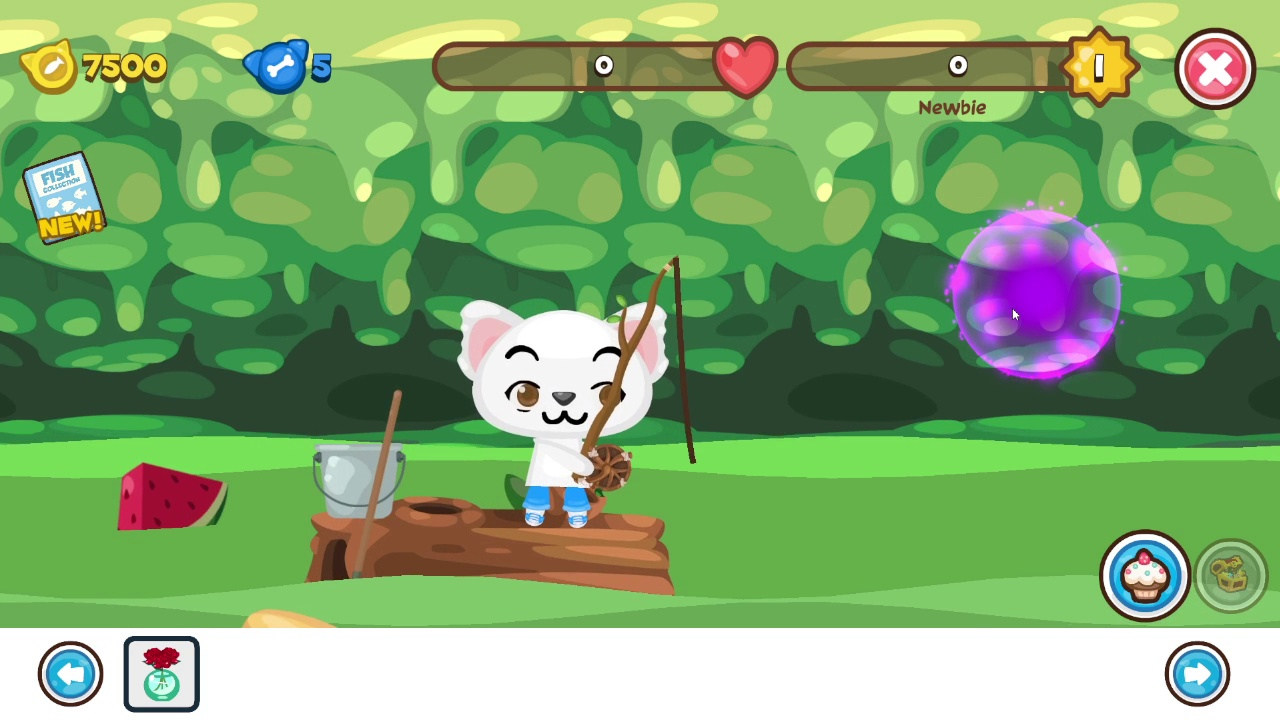point: (951, 209, 1122, 380)
